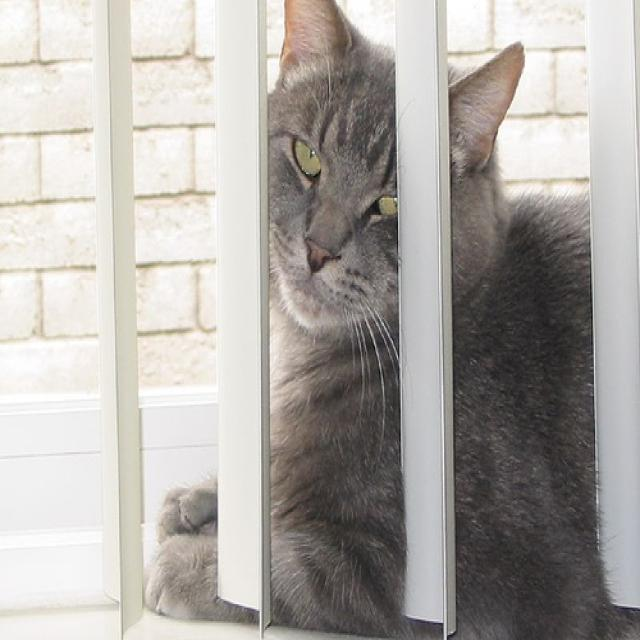cat: (140, 1, 639, 639)
